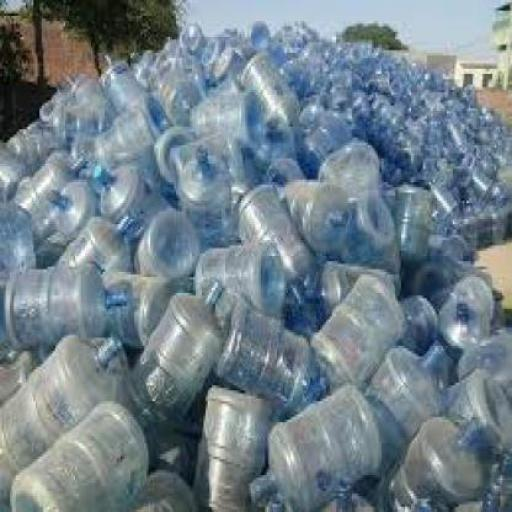plastic: (0, 330, 127, 501), (246, 377, 380, 509), (8, 398, 154, 510), (206, 286, 322, 404), (362, 338, 453, 485), (316, 135, 402, 285), (309, 264, 401, 388), (225, 180, 313, 309), (129, 280, 217, 409), (372, 411, 486, 510), (191, 380, 269, 510), (4, 264, 124, 348), (101, 266, 192, 349), (192, 237, 287, 314), (14, 148, 87, 238), (176, 142, 240, 241), (85, 95, 172, 166), (271, 176, 352, 250), (441, 364, 510, 448), (89, 160, 168, 230), (188, 79, 262, 151), (0, 203, 34, 347), (50, 214, 130, 272), (132, 208, 198, 278), (411, 182, 476, 251), (393, 100, 471, 156), (237, 48, 295, 122), (385, 182, 433, 256), (152, 60, 207, 124), (436, 290, 490, 351), (43, 177, 97, 235), (126, 466, 194, 510), (146, 417, 196, 475), (457, 324, 508, 378), (402, 145, 474, 182), (415, 230, 471, 277), (397, 288, 437, 353), (98, 50, 143, 106), (63, 72, 111, 124), (150, 124, 193, 182), (399, 261, 455, 304), (0, 346, 39, 404), (461, 195, 510, 238), (324, 63, 372, 106), (316, 480, 378, 510), (0, 140, 26, 211), (297, 100, 348, 135), (451, 269, 491, 312), (293, 119, 332, 163), (295, 48, 328, 100), (6, 119, 40, 169), (471, 103, 510, 146), (440, 82, 478, 124), (381, 53, 421, 92), (468, 147, 504, 190), (368, 92, 401, 138), (263, 148, 302, 184), (449, 488, 510, 510), (486, 443, 511, 496), (37, 87, 77, 119), (346, 87, 372, 130), (32, 227, 65, 259), (126, 50, 161, 79), (312, 32, 350, 58), (274, 18, 312, 42), (194, 34, 220, 69), (209, 42, 235, 76), (356, 63, 388, 90), (414, 69, 446, 95), (177, 21, 202, 53), (241, 21, 271, 45), (344, 39, 377, 58), (261, 488, 287, 510), (489, 293, 502, 330), (158, 34, 178, 56), (218, 27, 240, 39)
